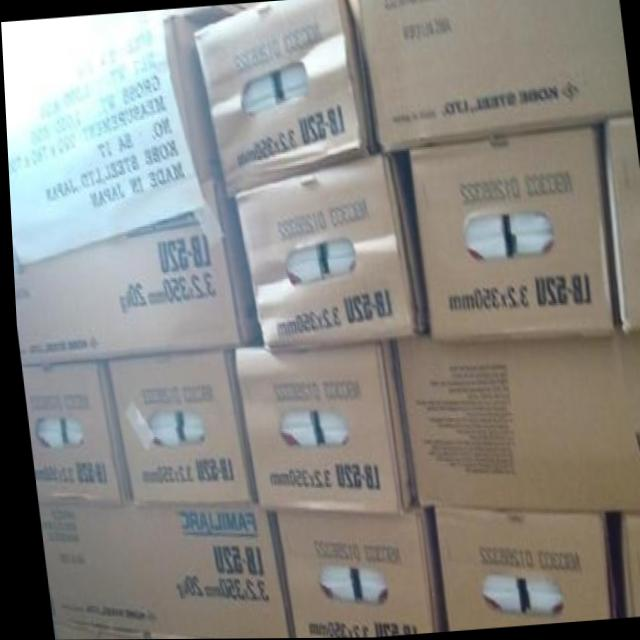box: (3, 18, 221, 234), (10, 183, 262, 365), (393, 337, 640, 516), (408, 127, 614, 339), (356, 0, 629, 152), (236, 152, 426, 349), (33, 497, 285, 639), (194, 0, 375, 197), (231, 345, 414, 513), (101, 351, 251, 503), (269, 508, 440, 638), (430, 510, 612, 628), (19, 363, 123, 501), (595, 115, 640, 332), (616, 519, 640, 616), (47, 624, 142, 640)
